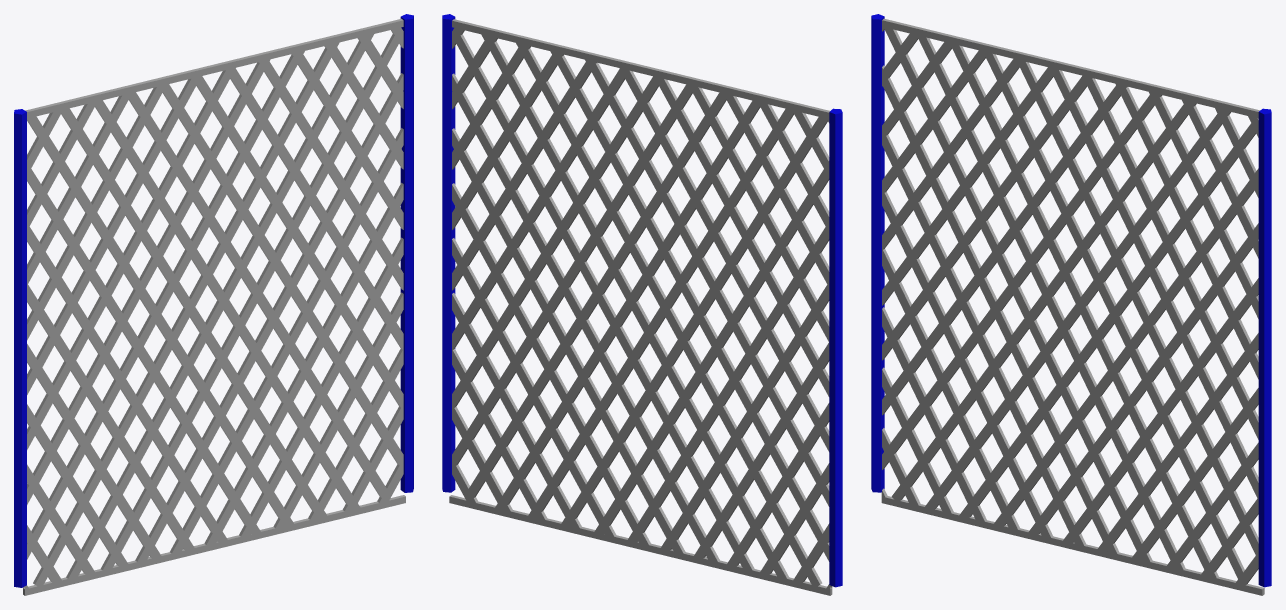
The model's file is ms_fence_02.fbx.
The picture shows the model from 3 angles, left to right: view 1: azimuth 30°, elevation 25°; view 2: azimuth 150°, elevation 25°; view 3: azimuth 330°, elevation 25°; orthographic projection.
Parts seen in each view (by area): view 1: fence_02; view 2: fence_02; view 3: fence_02.
Part boxes in pixels (x1,y1,x2,y2): fence_02: (14, 14, 413, 595); fence_02: (442, 14, 842, 595); fence_02: (871, 14, 1271, 595).
Bounding box in the file's own units: 182 × 211 × 5.55.
